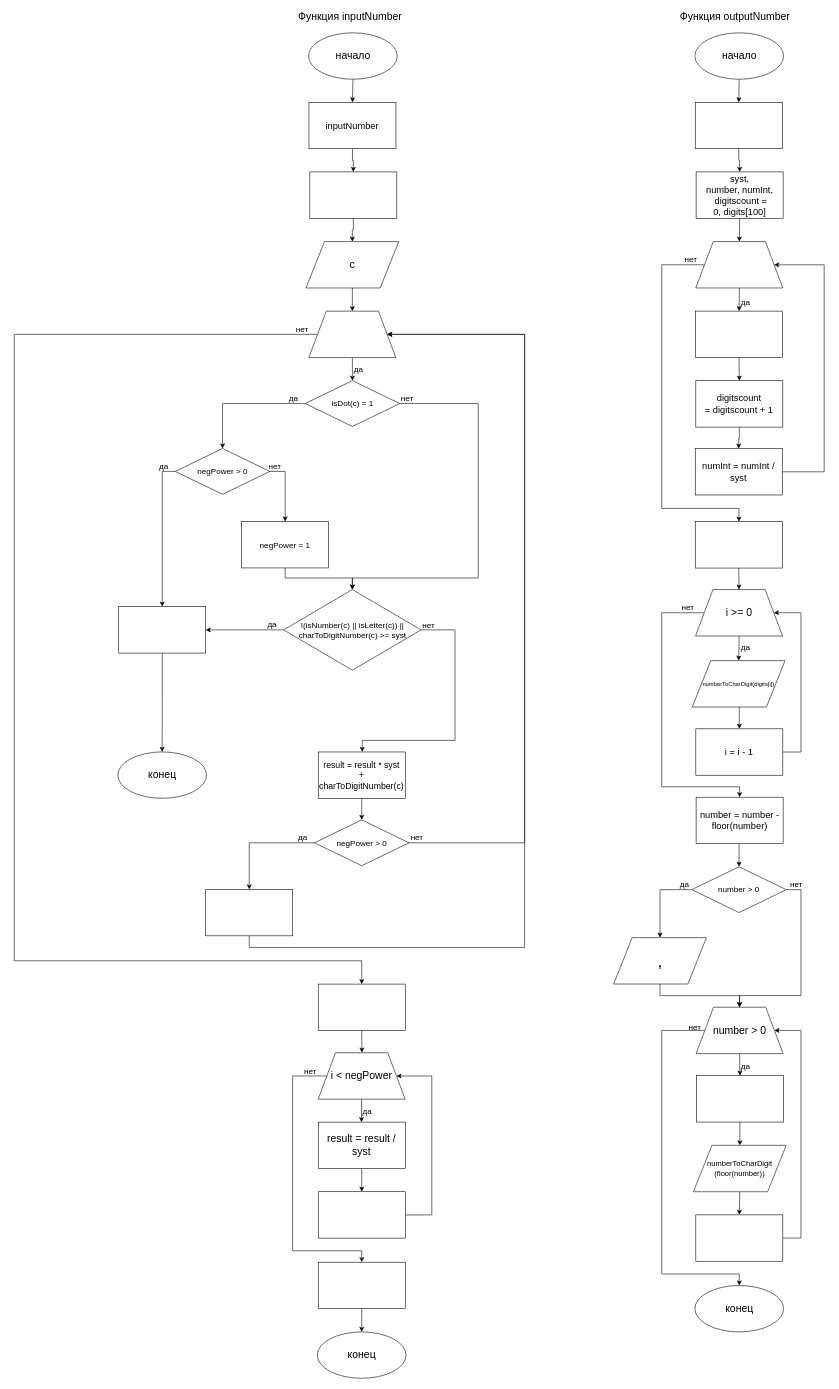
The diagram is 839 pixels wide and 1389 high, and some of its shapes have lost their labels. Each missing label, with the box of its shape:
c != '\n': (308, 311, 396, 358)
digits[digitscount] = numInt % syst: (695, 311, 783, 358)
i = 1: (318, 984, 405, 1030)
i = digitcount - 1: (695, 521, 782, 568)
i = i + 1: (318, 1191, 405, 1238)
inputNumber = - 1: (118, 606, 206, 653)
inputNumber = result: (318, 1262, 405, 1309)
negPower = negPower + 1: (205, 889, 293, 936)
number -= floor(number): (695, 1214, 783, 1261)
number = number * syst: (696, 1075, 783, 1122)
numInt != 0: (695, 241, 783, 288)
outputNumber: (695, 102, 782, 149)
syst, result = 0, negPower = 0: (309, 171, 397, 218)
